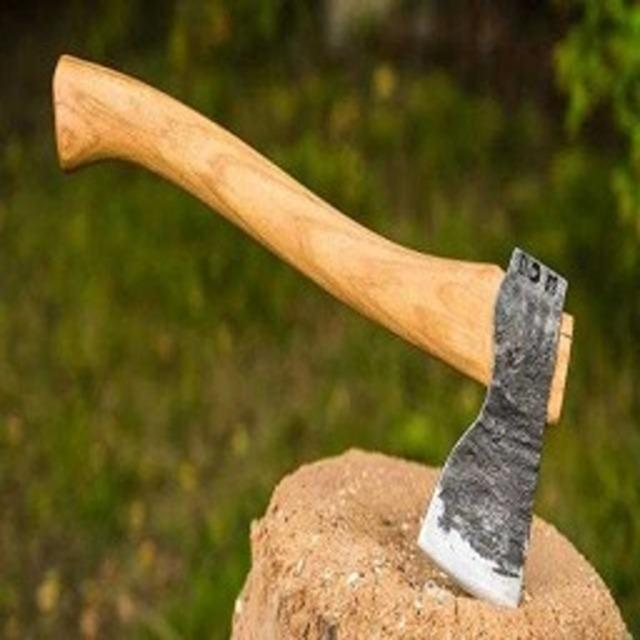ax: (50, 47, 577, 611)
